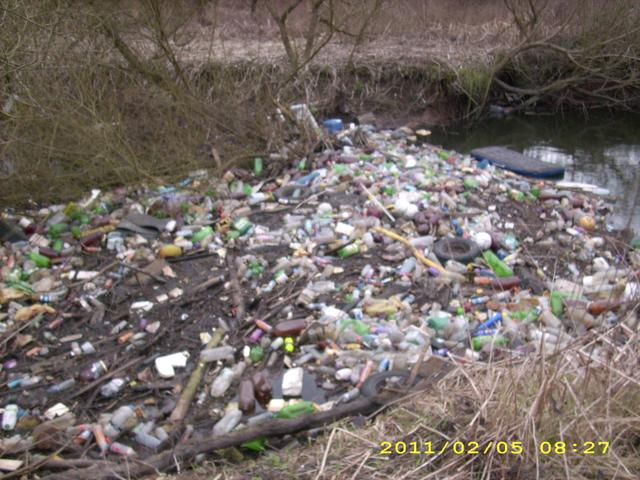garbage: (279, 170, 528, 357)
